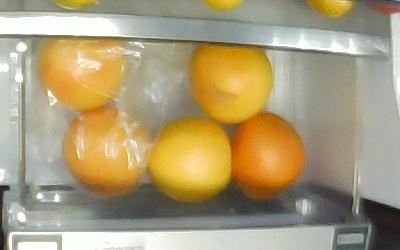grapefruit: (147, 118, 232, 202), (187, 44, 273, 123), (230, 112, 305, 201)
grapefruit_vinyl: (62, 107, 149, 195), (37, 40, 128, 111)
